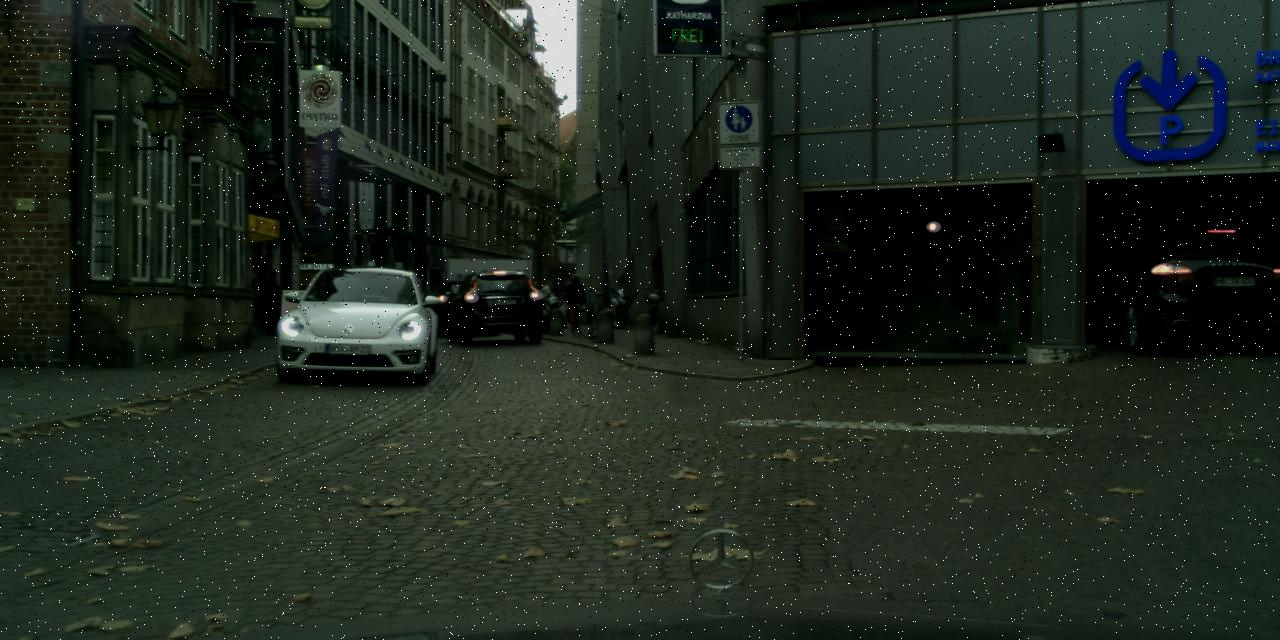ped: (259, 269, 285, 333), (562, 272, 586, 331), (560, 281, 578, 324), (527, 280, 544, 324), (539, 280, 556, 323)
